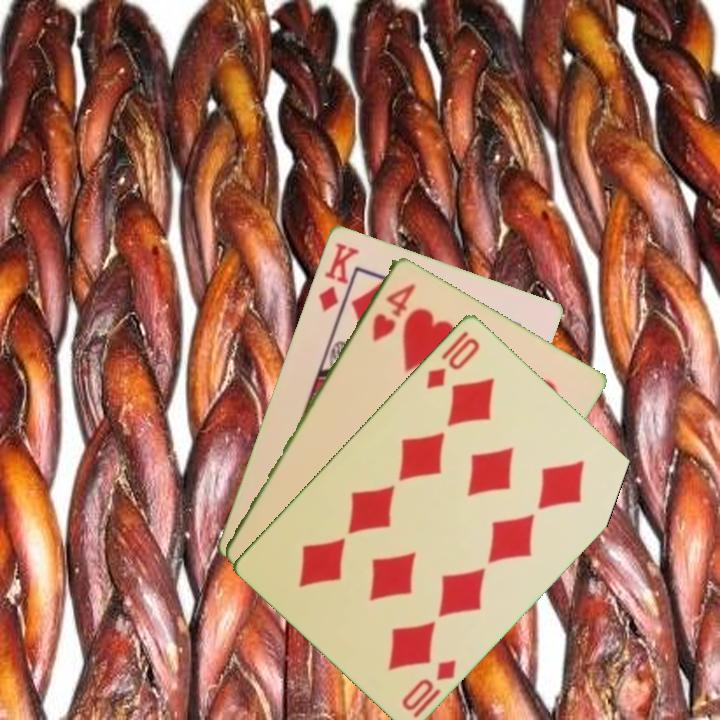10d: (422, 333, 483, 392), (398, 655, 459, 713)
4h: (368, 279, 419, 344)
Kd: (314, 238, 362, 314)
